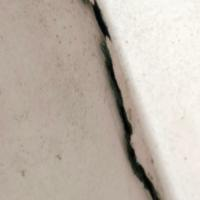crack: (78, 1, 160, 199)
